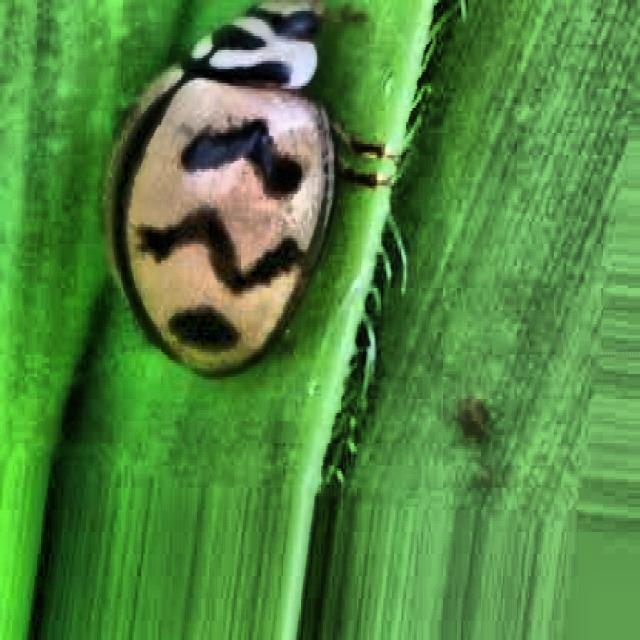Asian-Lady-beetle: (75, 0, 398, 454)
